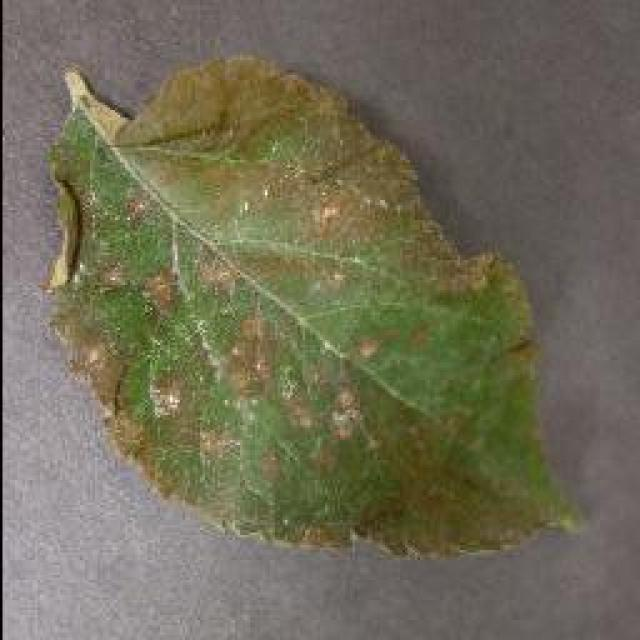apple cedar apple rust: (40, 50, 588, 560)
